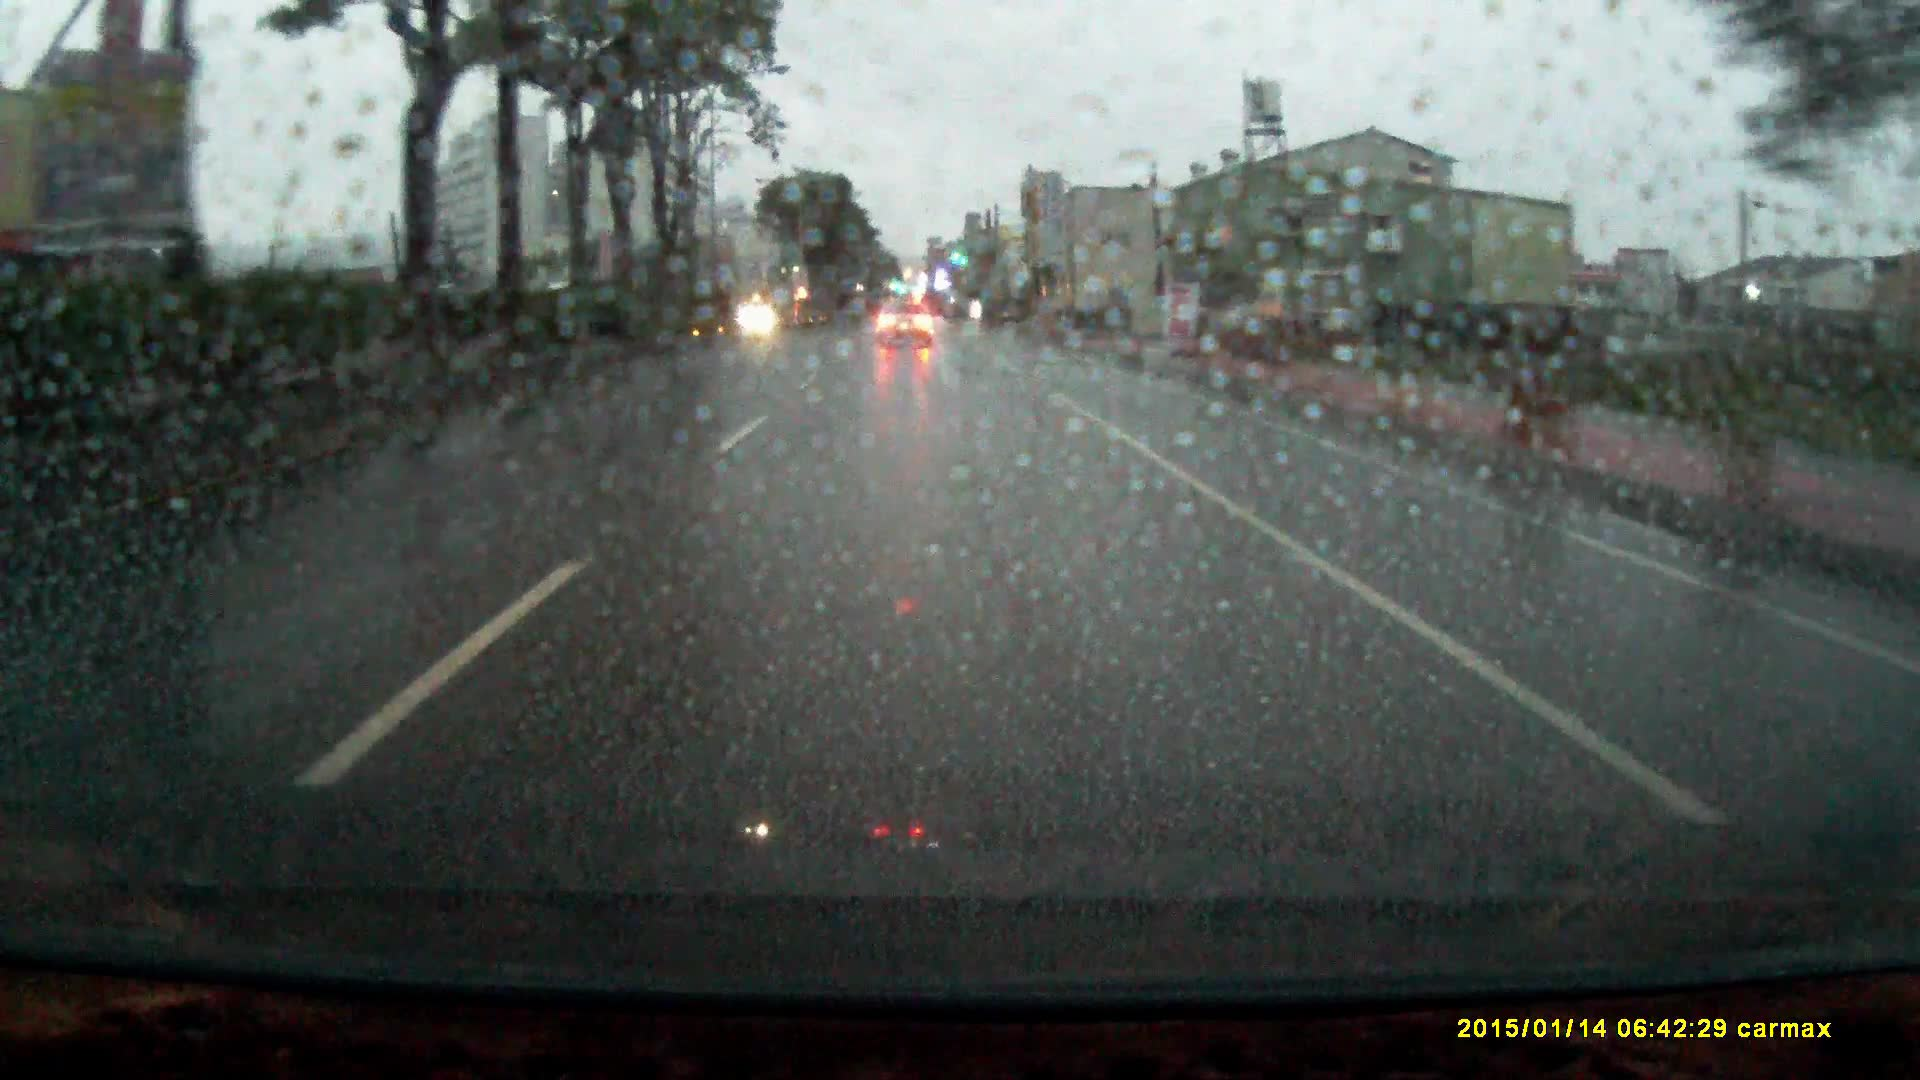vehicle: (876, 301, 935, 348)
